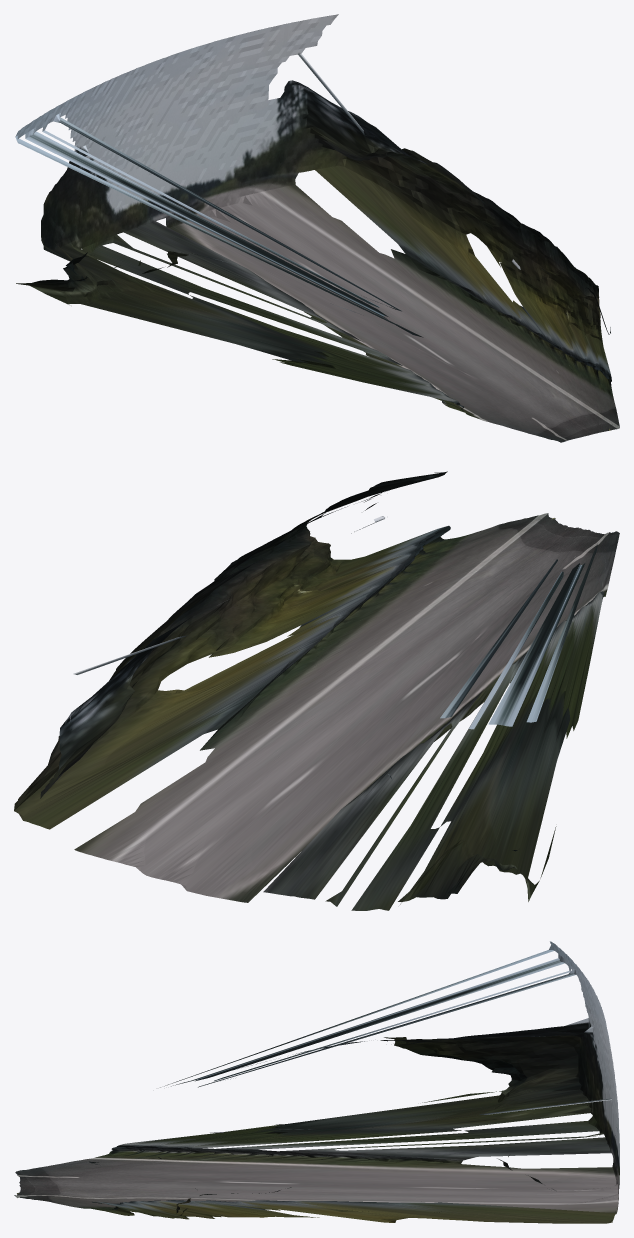
3 renders of one model, top to bottom at view 1: azimuth 30°, elevation 25°; view 2: azimuth 150°, elevation 25°; view 3: azimuth 270°, elevation 25°, orthographic. The views are drawn at different scales.
Visible parts, largest first — view 1: defaultobject; view 2: defaultobject; view 3: defaultobject.
Part boxes in pixels (bbox=[...]): defaultobject: bbox=[15, 14, 619, 442]; defaultobject: bbox=[14, 471, 619, 910]; defaultobject: bbox=[14, 941, 619, 1223].
Bounding box in the file's own units: 29.02 × 12.9 × 44.91.
Materials: 1 (1 with a texture image).
